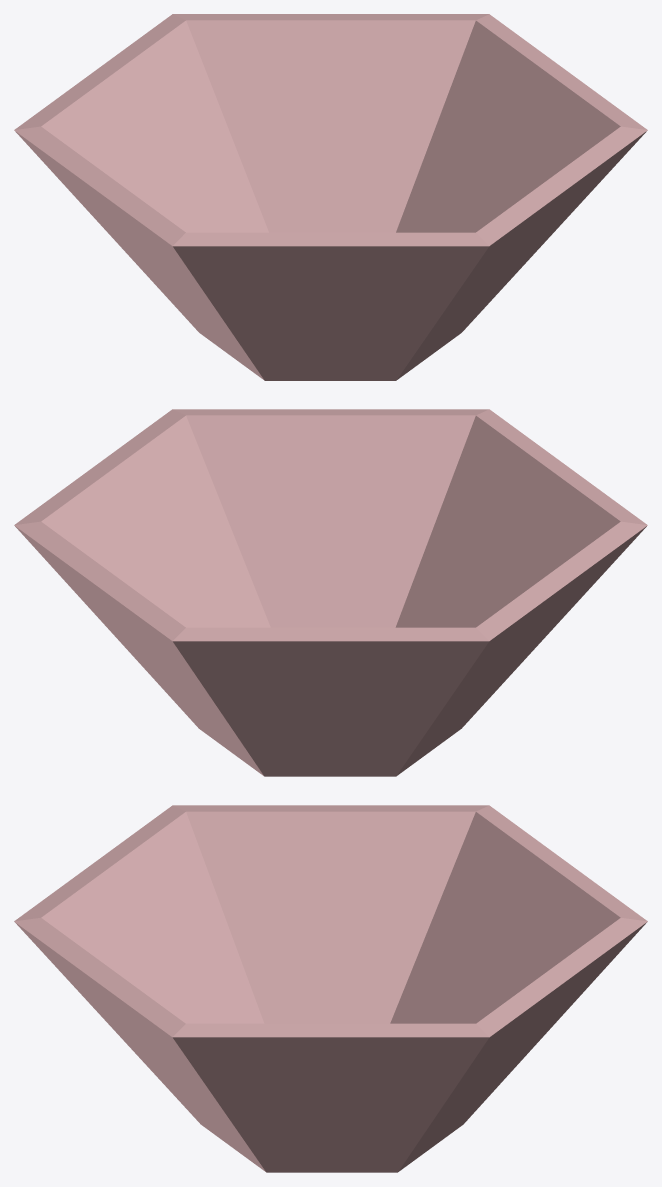
The model's file is BowlSmall_Material.fbx.
3 renders of one model, top to bottom at view 1: azimuth 30°, elevation 25°; view 2: azimuth 150°, elevation 25°; view 3: azimuth 270°, elevation 25°, orthographic.
Parts seen in each view (by area): view 1: BowlSmall; view 2: BowlSmall; view 3: BowlSmall.
Part boxes in pixels (left/top/right/bottom): BowlSmall: left=14, top=14, right=647, bottom=380; BowlSmall: left=14, top=409, right=647, bottom=776; BowlSmall: left=14, top=805, right=647, bottom=1172.
Size of the model in its own units: 0.1511 by 0.0627 by 0.1744.
